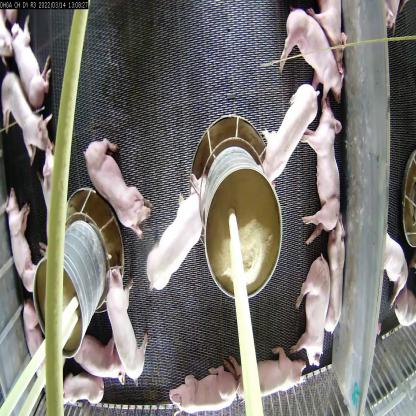Pig: (262, 67, 322, 196), (137, 186, 212, 289), (283, 10, 360, 101), (84, 130, 145, 235), (301, 105, 342, 249), (224, 334, 310, 396), (293, 240, 335, 364), (102, 261, 146, 371), (2, 56, 50, 156), (169, 353, 246, 413), (4, 188, 34, 314), (326, 213, 354, 338), (68, 336, 128, 388), (16, 26, 47, 116), (50, 360, 99, 415)
